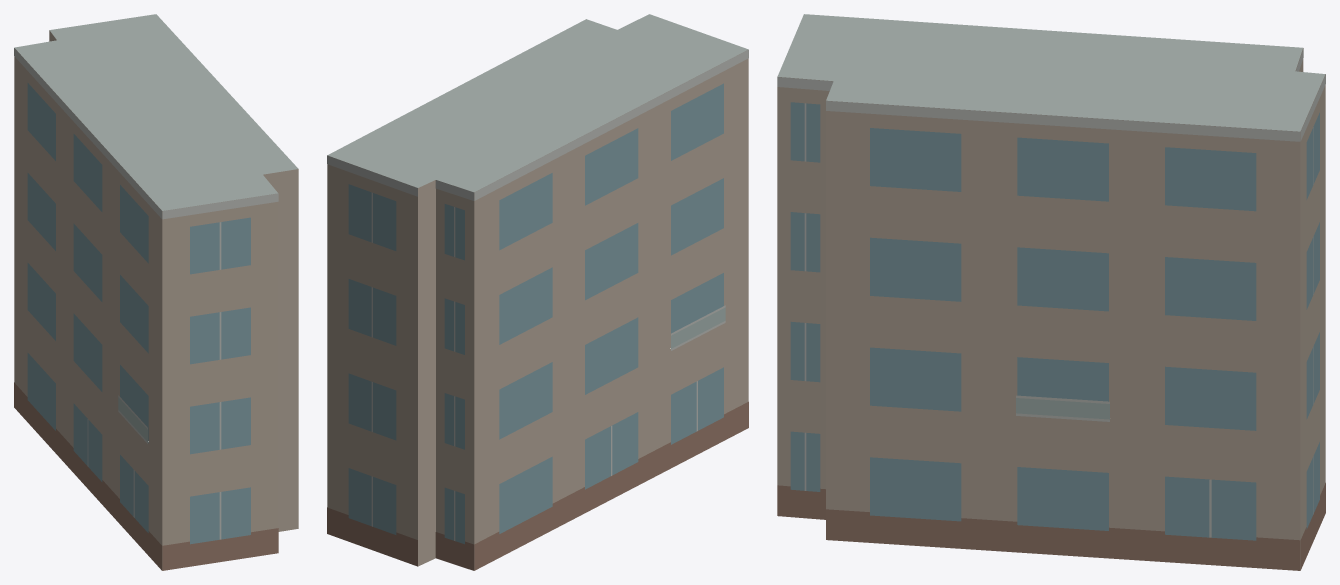
File: survey-upis-32710766.glb
3 renders of one model, left to right at view 1: azimuth 30°, elevation 25°; view 2: azimuth 150°, elevation 25°; view 3: azimuth 270°, elevation 25°, orthographic. The views are drawn at different scales.
Parts seen in each view (by area): view 1: survey-upis-32710766.tmp; view 2: survey-upis-32710766.tmp; view 3: survey-upis-32710766.tmp.
Boxes of the visible parts, left/top/right/bottom form: survey-upis-32710766.tmp: left=14, top=14, right=298, bottom=570; survey-upis-32710766.tmp: left=327, top=14, right=748, bottom=570; survey-upis-32710766.tmp: left=777, top=14, right=1325, bottom=570.
Size of the model in its own units: 6.04 by 10.5 by 11.89.
